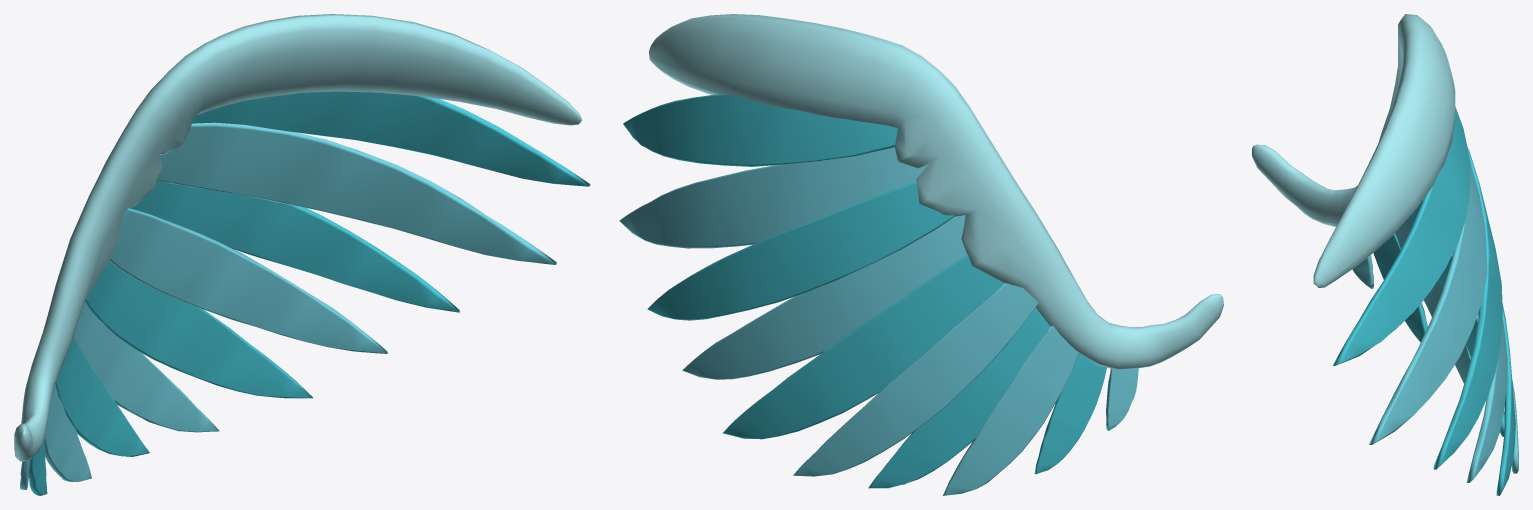
Rendered from Wing(Good)2.fbx.
3 views of the same model, side by side, from view 1: azimuth 30°, elevation 25°; view 2: azimuth 150°, elevation 25°; view 3: azimuth 270°, elevation 25° (orthographic). The views are drawn at different scales.
Visible parts, largest first — view 1: Wing_Good_2; view 2: Wing_Good_2; view 3: Wing_Good_2.
Part boxes in pixels (<box>): Wing_Good_2: <box>14,14,590,495</box>; Wing_Good_2: <box>619,14,1223,495</box>; Wing_Good_2: <box>1252,14,1518,495</box>.
Bounding box in the file's own units: 111 × 77.58 × 43.38.
Materials: 1 (1 with a texture image).
